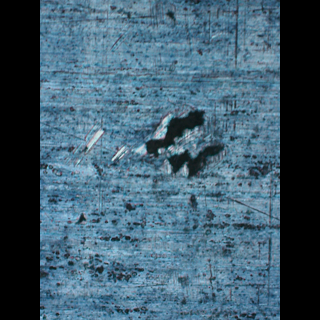d: (101, 104, 223, 185)
